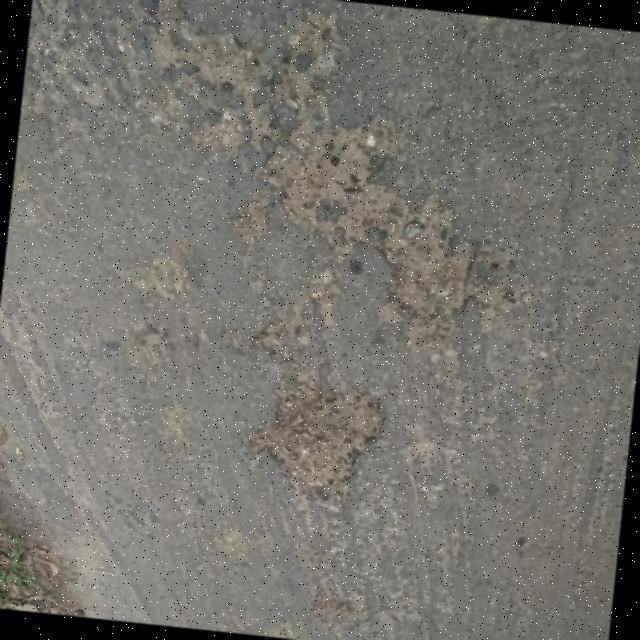Pothole: (111, 0, 482, 325), (242, 378, 390, 505)
